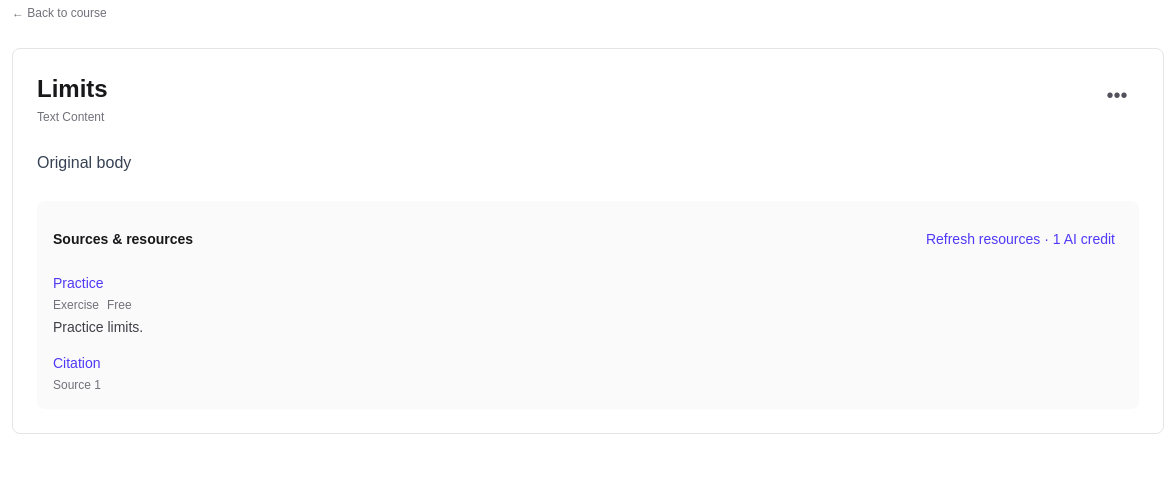
Test: lesson actions and resource refresh › preserves existing recommendations on refresh failure and offers retry
Click the button "Refresh resources · 1 AI credit" at point(1020, 239), box [918,217,1123,261]
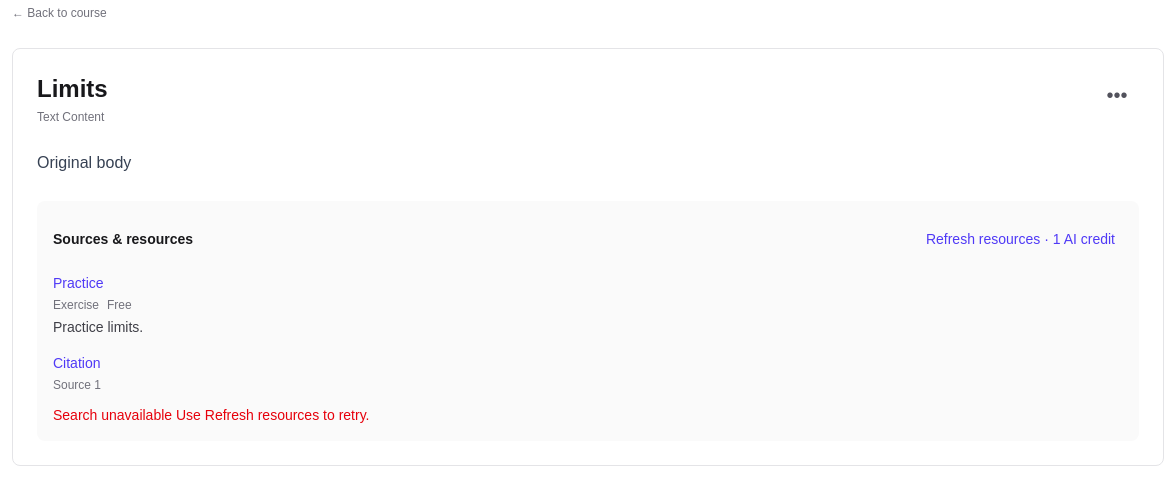
Expected: the link "Practice" is shown, [53,275,104,291]
Expected: the message shows "Search unavailable", [53,407,172,423]
